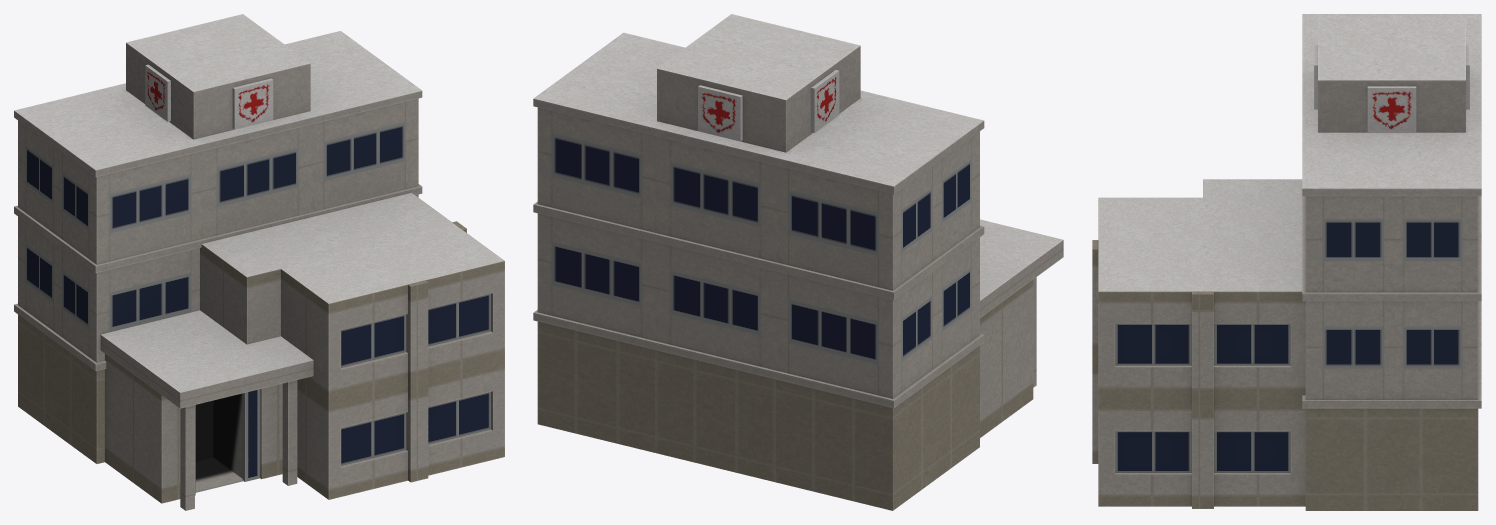
The model's file is sb_obj_ModernCity015_hospital.fbx.
The picture shows the model from 3 angles, left to right: view 1: azimuth 30°, elevation 25°; view 2: azimuth 150°, elevation 25°; view 3: azimuth 270°, elevation 25°; orthographic projection. The views are drawn at different scales.
Visible parts, largest first — view 1: sb_obj_ModernCity015_hospital; view 2: sb_obj_ModernCity015_hospital; view 3: sb_obj_ModernCity015_hospital.
Boxes of the visible parts, bbox=[...] form: sb_obj_ModernCity015_hospital: bbox=[14, 14, 504, 510]; sb_obj_ModernCity015_hospital: bbox=[533, 14, 1063, 510]; sb_obj_ModernCity015_hospital: bbox=[1092, 14, 1481, 510].
Size of the model in its own units: 6.98 by 7 by 6.57.
